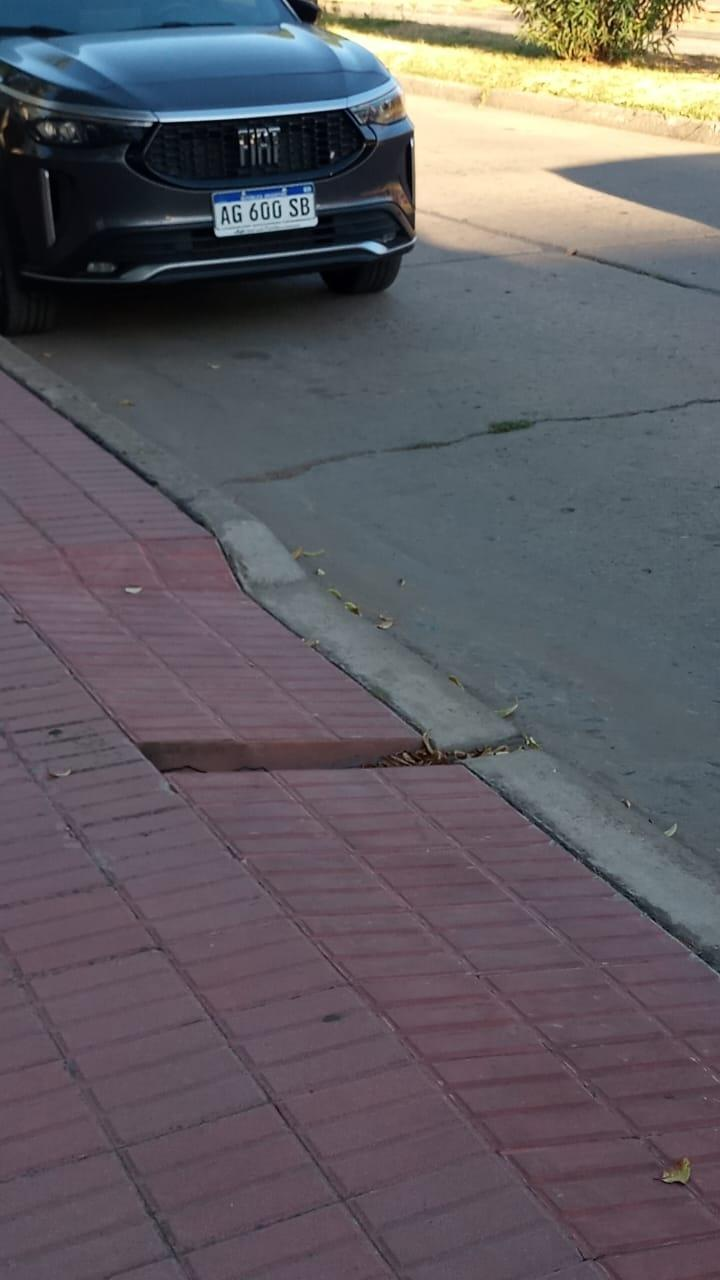matricula: (207, 174, 330, 250)
